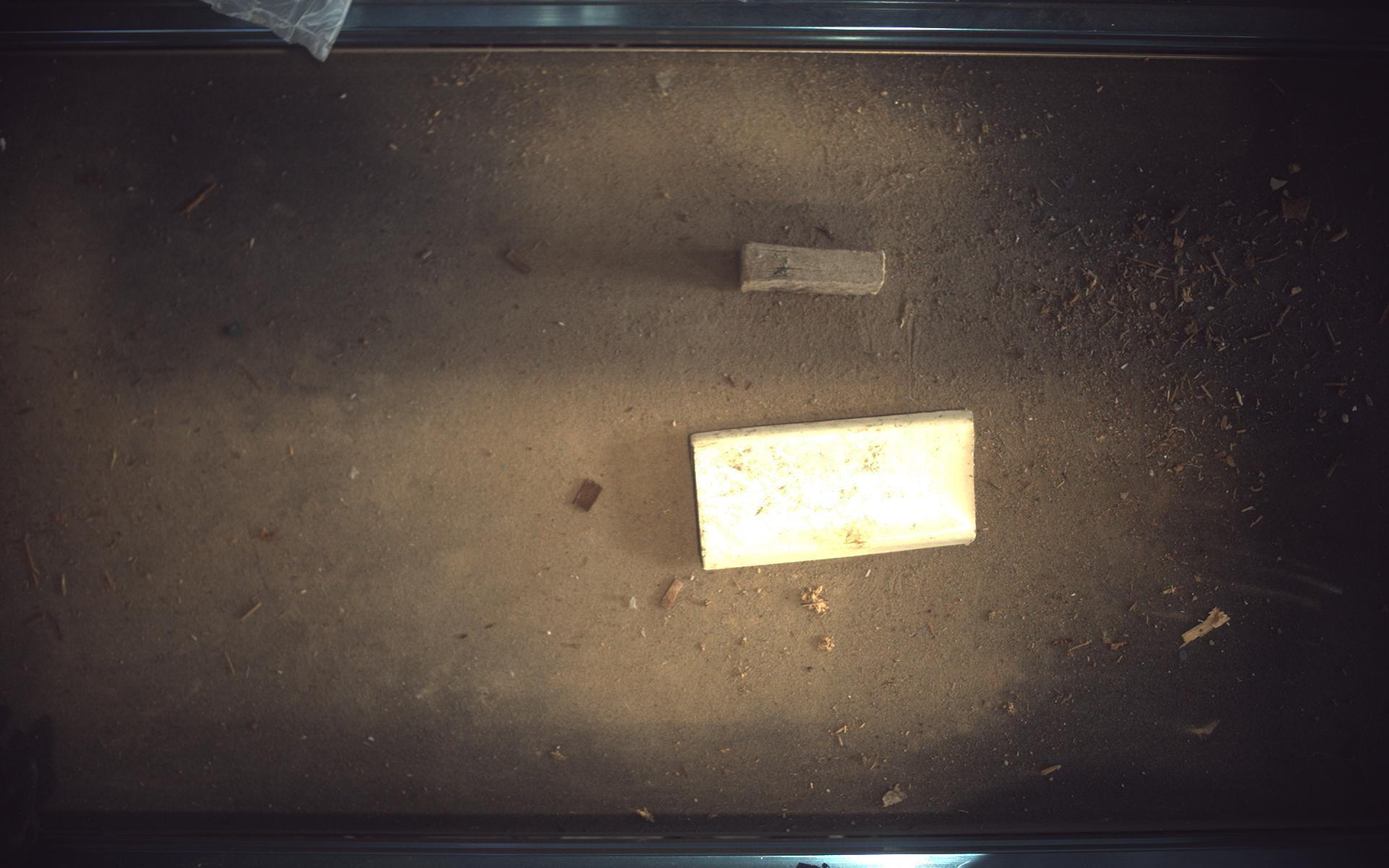wood: (691, 410, 978, 571), (742, 242, 888, 294)
